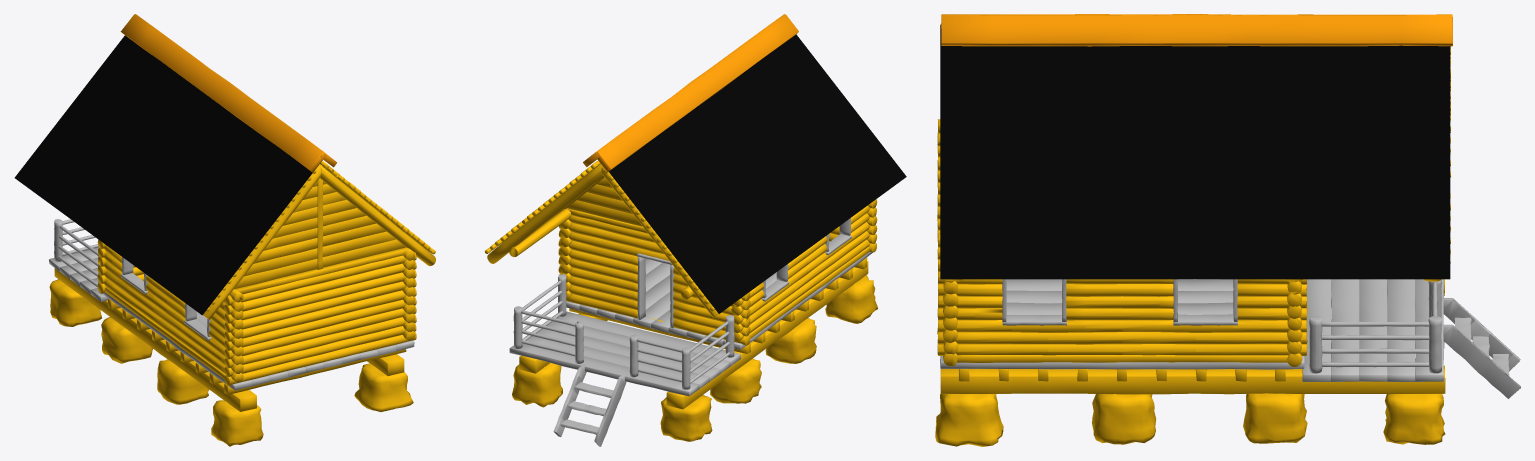
File: LogCabinV3.4.5--FbxVersioLowPollyV2.fbx
3 renders of one model, left to right at view 1: azimuth 30°, elevation 25°; view 2: azimuth 150°, elevation 25°; view 3: azimuth 270°, elevation 25°, orthographic. The views are drawn at different scales.
Visible parts, largest first — view 1: Runko; view 2: Runko; view 3: Runko.
Part boxes in pixels (left/top/right/bottom): Runko: left=14, top=14, right=435, bottom=446; Runko: left=484, top=14, right=906, bottom=446; Runko: left=935, top=14, right=1520, bottom=446.
Size of the model in its own units: 1400 by 1512 by 2143.
